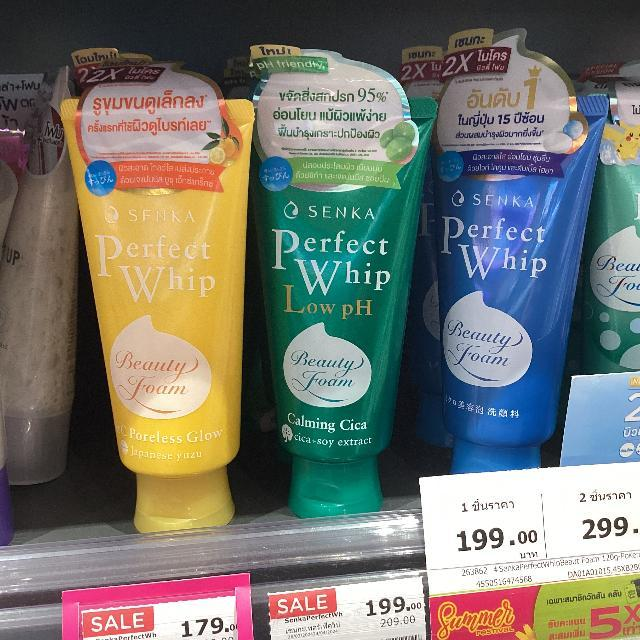Squeeze Tube: (28, 38, 281, 550), (238, 48, 417, 522), (421, 32, 593, 496)
